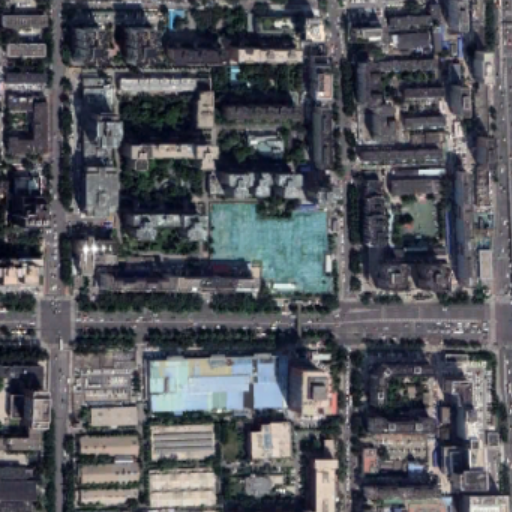cw: (209, 199, 336, 298)
